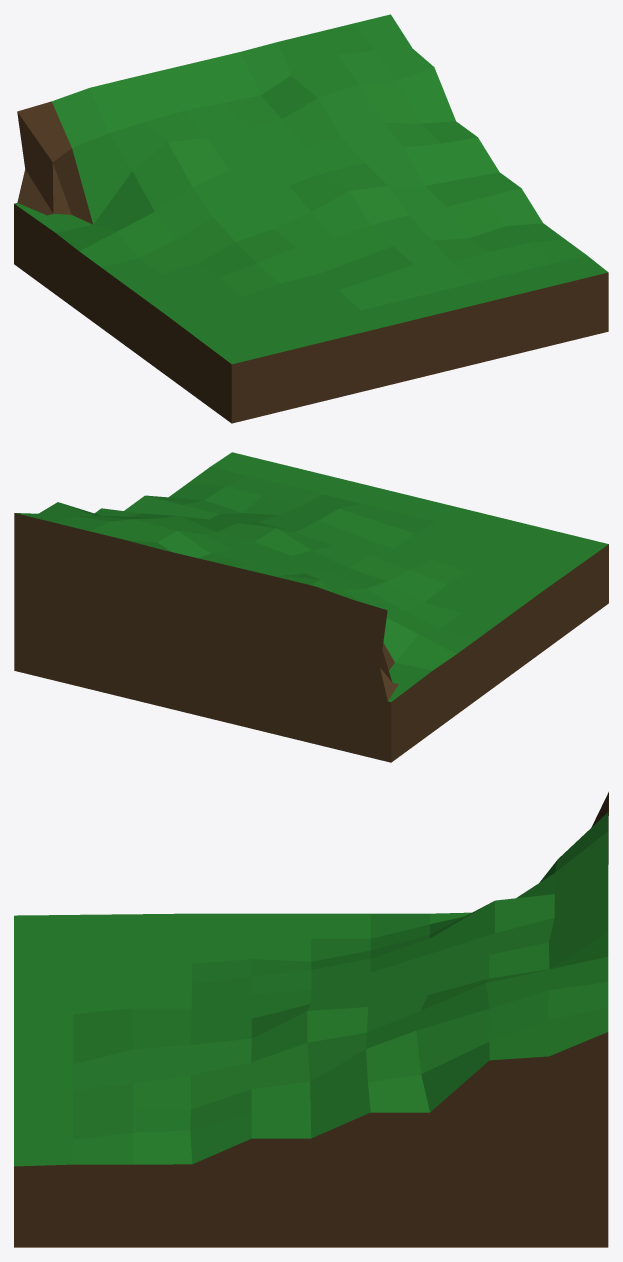
File: Elev_Curve_PE.fbx
3 renders of one model, top to bottom at view 1: azimuth 30°, elevation 25°; view 2: azimuth 150°, elevation 25°; view 3: azimuth 270°, elevation 25°, orthographic. The views are drawn at different scales.
Visible parts, largest first — view 1: Elev_Curve_PE; view 2: Elev_Curve_PE; view 3: Elev_Curve_PE.
Boxes of the visible parts, box(x1,y1,x2,y2) form: Elev_Curve_PE: box(14, 14, 608, 423); Elev_Curve_PE: box(14, 452, 608, 762); Elev_Curve_PE: box(14, 792, 608, 1247).
Bounding box in the file's own units: 200 × 80 × 200.
